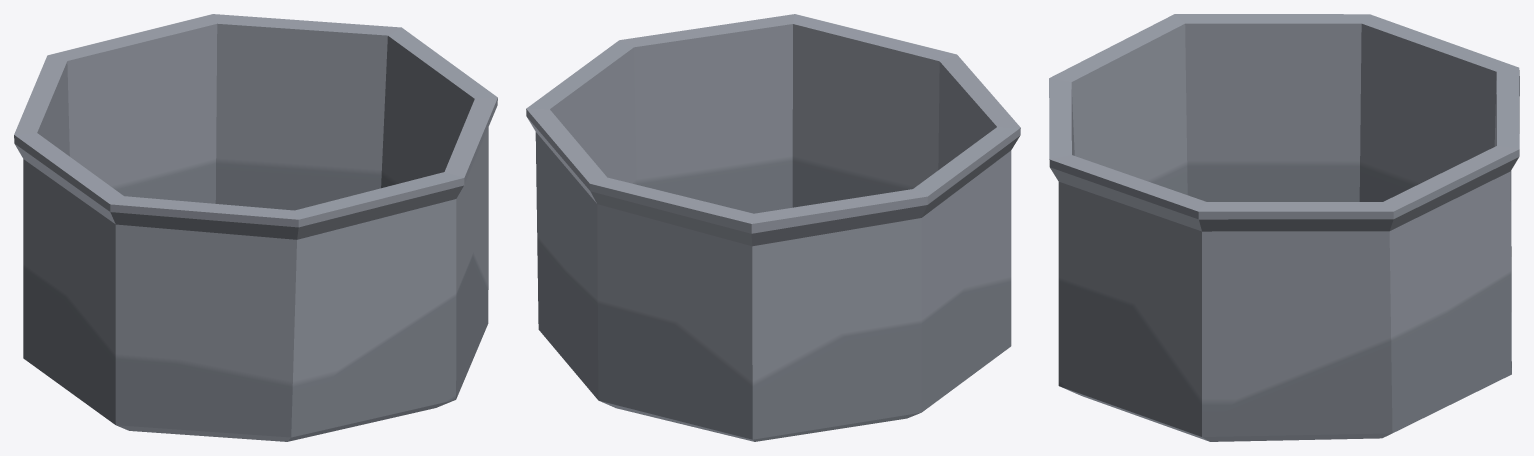
Rendered from SM_Prop_Pot_01.fbx.
The picture shows the model from 3 angles, left to right: view 1: azimuth 30°, elevation 25°; view 2: azimuth 150°, elevation 25°; view 3: azimuth 270°, elevation 25°; orthographic projection. The views are drawn at different scales.
Parts seen in each view (by area): view 1: SM_Prop_Pot_01; view 2: SM_Prop_Pot_01; view 3: SM_Prop_Pot_01.
Part boxes in pixels (x1,y1,x2,y2): SM_Prop_Pot_01: (14, 14, 497, 441); SM_Prop_Pot_01: (526, 14, 1020, 441); SM_Prop_Pot_01: (1049, 14, 1519, 441).
Bounding box in the file's own units: 37.46 × 21.44 × 37.5.
